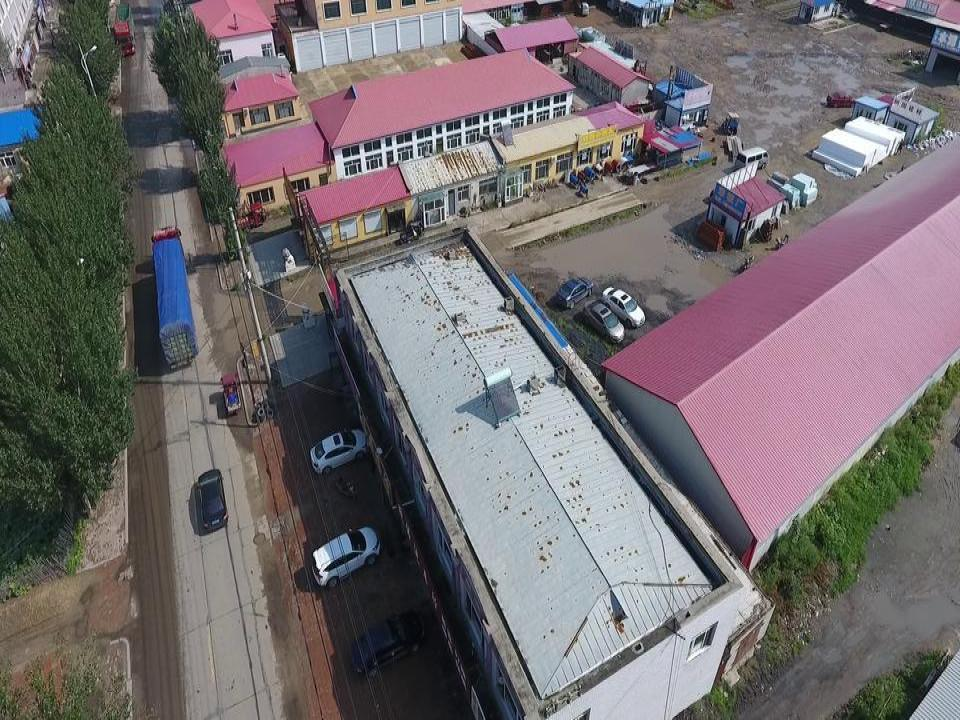car: (348, 611, 425, 676), (312, 525, 380, 588), (309, 428, 370, 475), (197, 466, 229, 530), (583, 299, 625, 344), (601, 287, 645, 328), (556, 277, 593, 307), (826, 89, 858, 108)
truck: (151, 227, 198, 368), (115, 3, 136, 57), (219, 370, 241, 414)
van: (734, 145, 770, 172), (581, 3, 589, 16)
